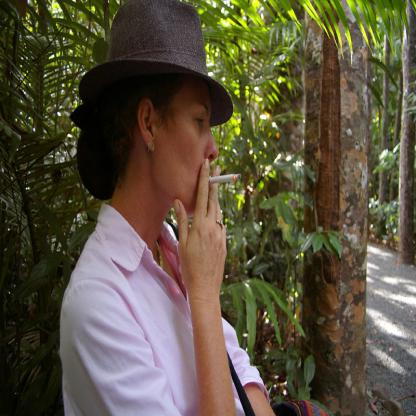smoking: (204, 174, 242, 185)
